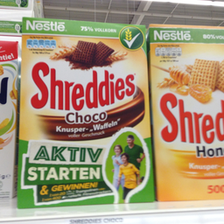cereal: (18, 16, 156, 209), (148, 24, 224, 201)
